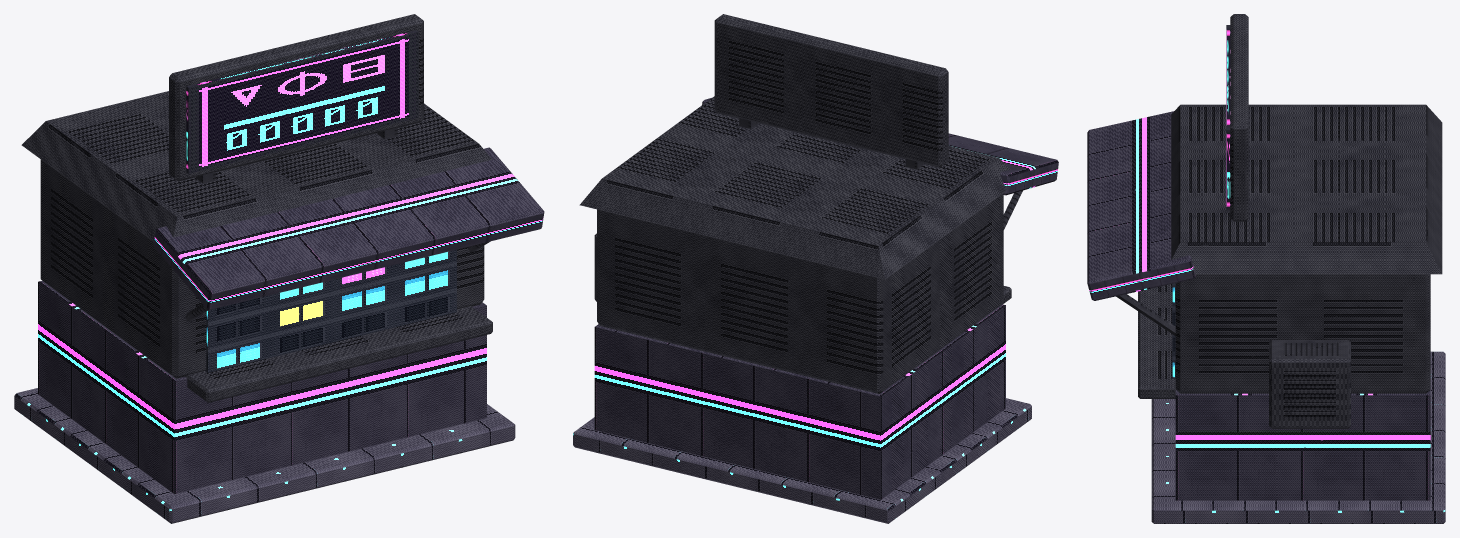
Rendered from alien_shop_kiosk.glb.
3 renders of one model, left to right at view 1: azimuth 30°, elevation 25°; view 2: azimuth 150°, elevation 25°; view 3: azimuth 270°, elevation 25°, orthographic. The views are drawn at different scales.
Parts seen in each view (by area): view 1: alien_shop_kiosk__city_wall_neon, alien_shop_kiosk__city_roof_mech, alien_shop_kiosk__city_neon_sign, alien_shop_kiosk__city_skyscraper_facade, alien_shop_kiosk__city_sidewalk_hex; view 2: alien_shop_kiosk__city_roof_mech, alien_shop_kiosk__city_wall_neon, alien_shop_kiosk__city_sidewalk_hex; view 3: alien_shop_kiosk__city_roof_mech, alien_shop_kiosk__city_wall_neon, alien_shop_kiosk__city_sidewalk_hex, alien_shop_kiosk__city_neon_sign.
Part boxes in pixels (x1,y1,x2,y2): alien_shop_kiosk__city_wall_neon: (38, 147, 544, 494); alien_shop_kiosk__city_roof_mech: (21, 14, 492, 402); alien_shop_kiosk__city_neon_sign: (186, 30, 418, 173); alien_shop_kiosk__city_skyscraper_facade: (205, 249, 456, 372); alien_shop_kiosk__city_sidewalk_hex: (14, 388, 515, 523); alien_shop_kiosk__city_roof_mech: (579, 14, 1022, 393); alien_shop_kiosk__city_wall_neon: (594, 98, 1058, 499); alien_shop_kiosk__city_sidewalk_hex: (573, 398, 1031, 523); alien_shop_kiosk__city_roof_mech: (1116, 14, 1442, 428); alien_shop_kiosk__city_wall_neon: (1087, 111, 1430, 500); alien_shop_kiosk__city_sidewalk_hex: (1151, 351, 1445, 523); alien_shop_kiosk__city_neon_sign: (1226, 25, 1230, 210).
Size of the model in its own units: 3.54 by 3.65 by 3.15.
Materials: 5 (5 with a texture image).
